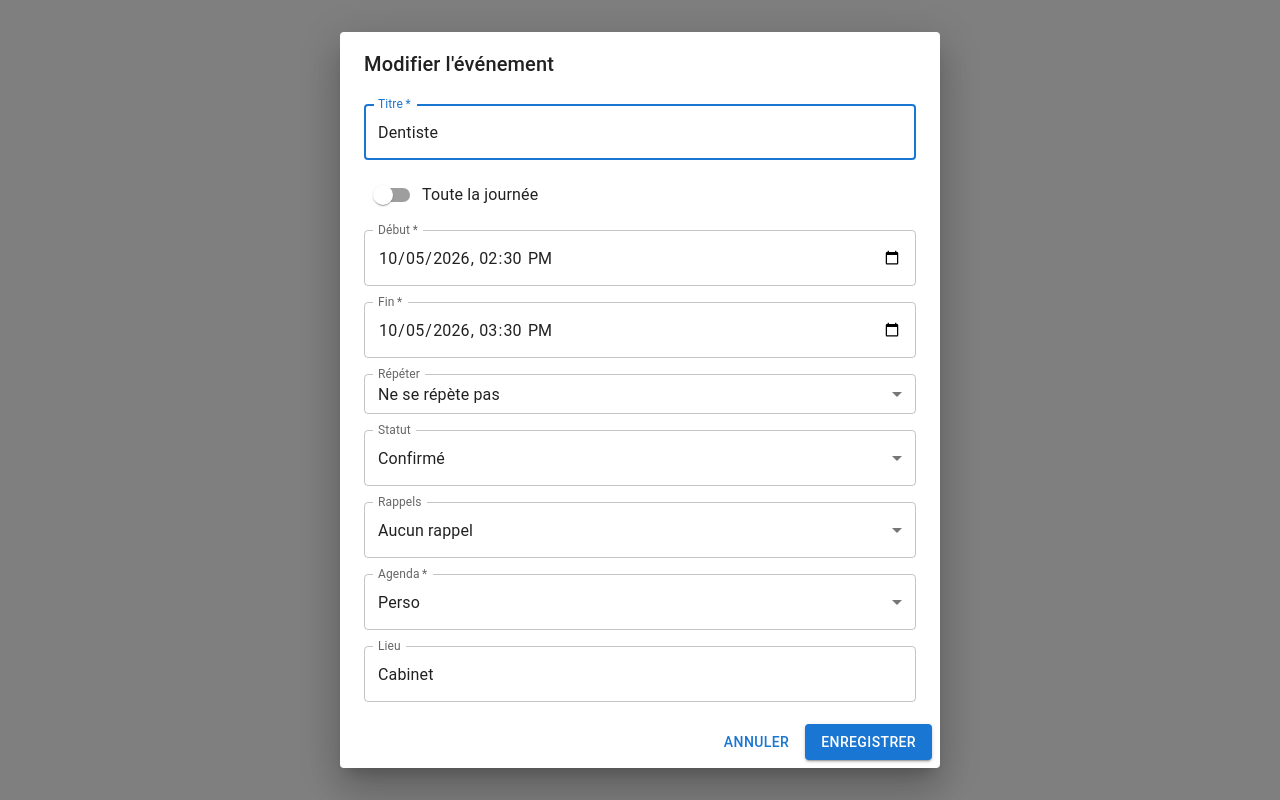
EventEditDialog › refuses an empty summary
Clear the field labelled "Titre *" at (640, 132), box [364,104,916,160]
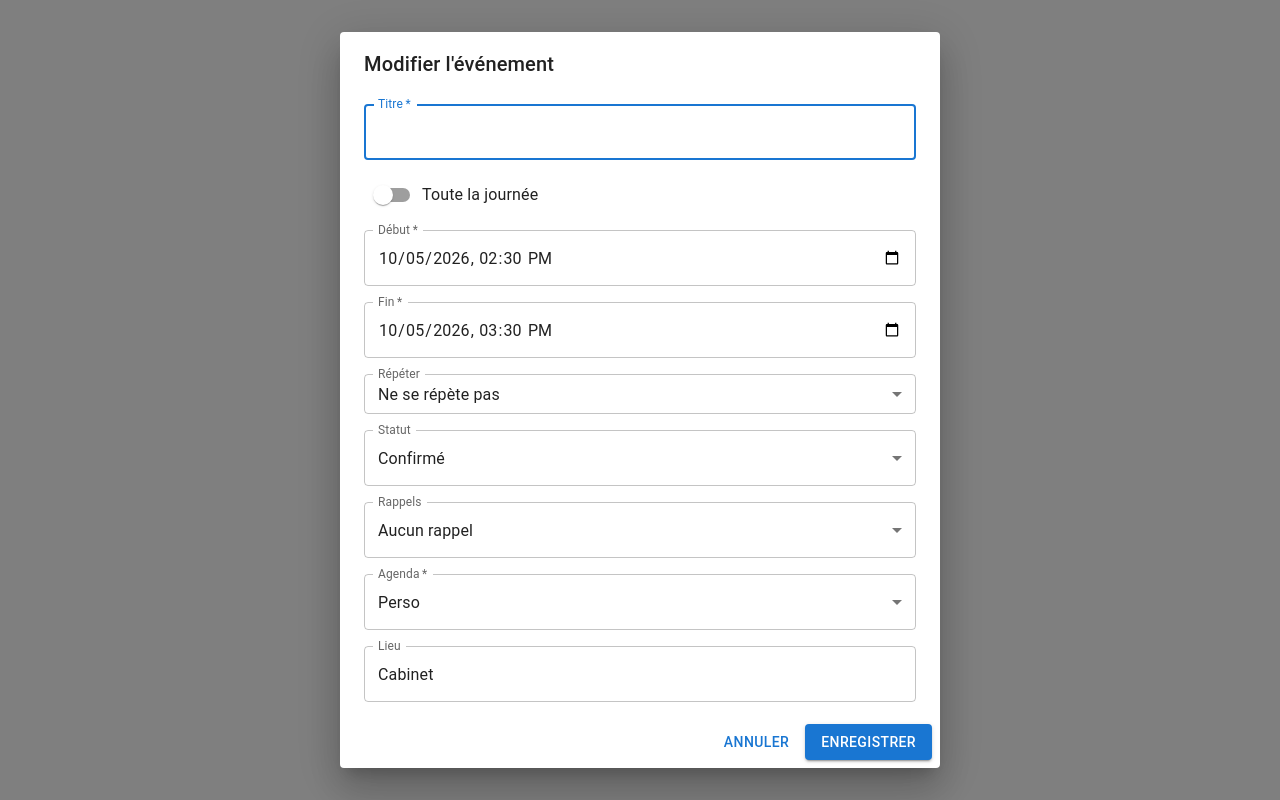
Click the button "Enregistrer" at (869, 742), box [805,724,932,760]
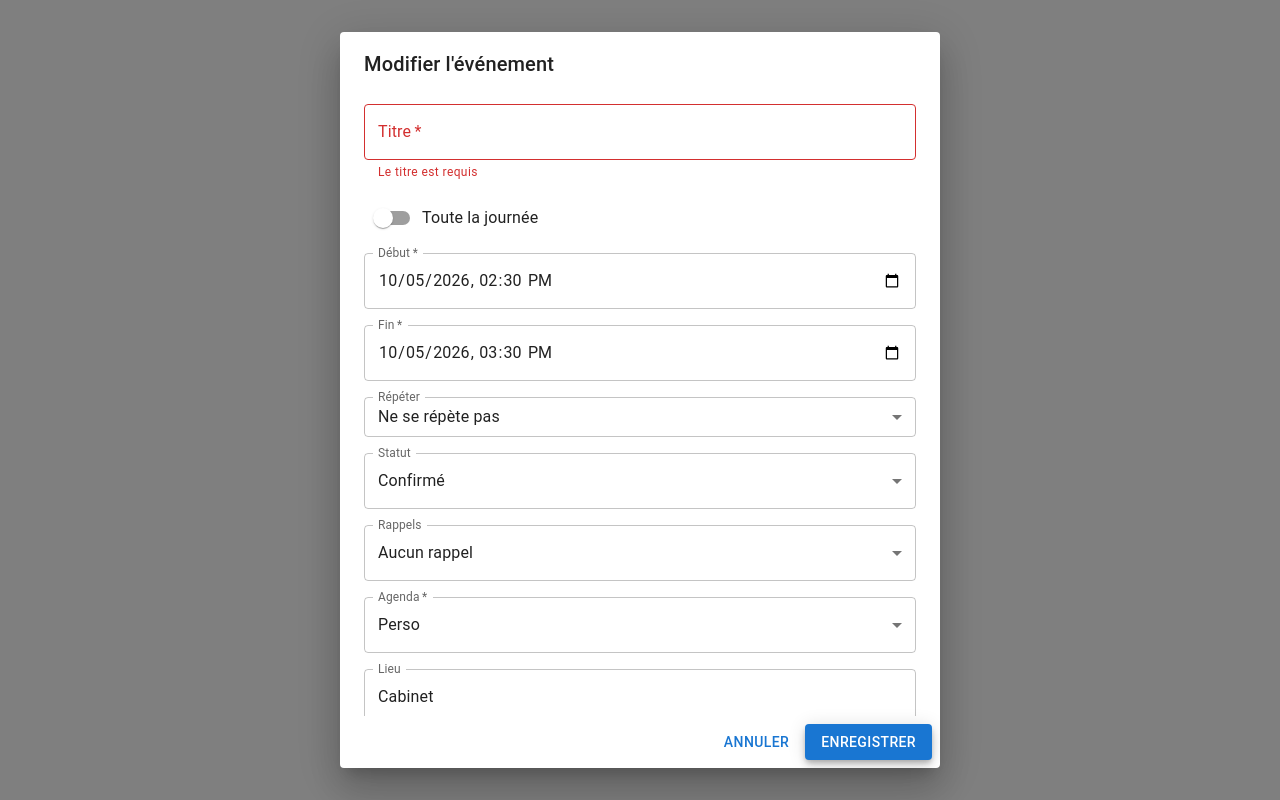
Now the text "Le titre est requis" is shown, box [378,165,478,179]
